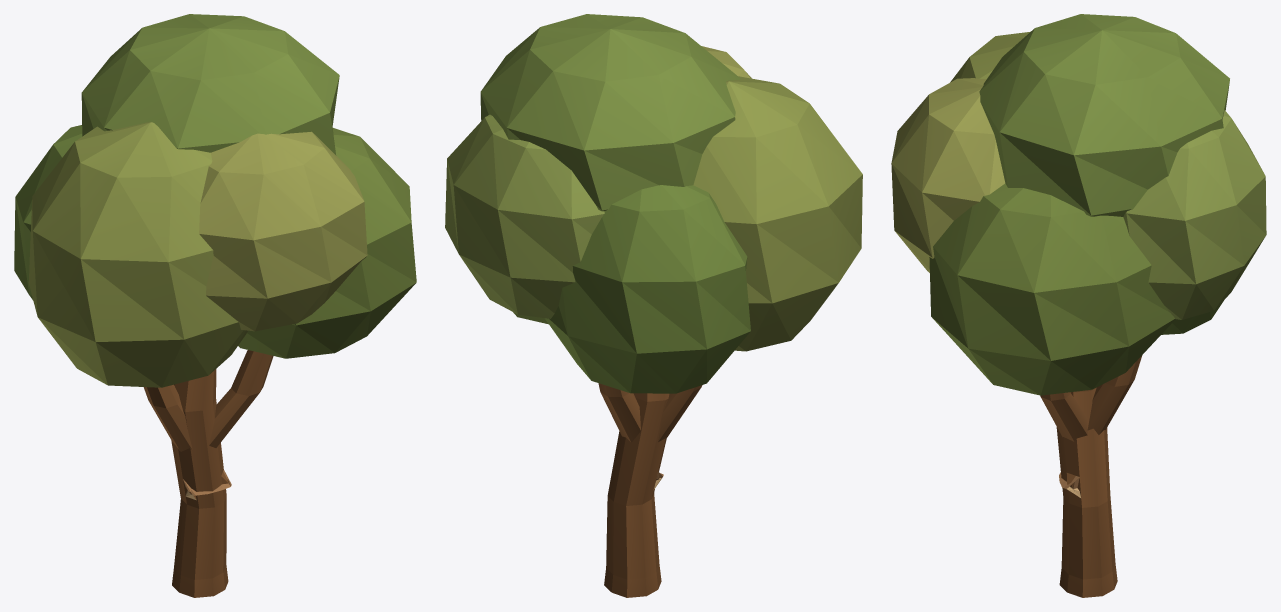
Rendered from OrchardElm.glb.
3 views of the same model, side by side, from view 1: azimuth 30°, elevation 25°; view 2: azimuth 150°, elevation 25°; view 3: azimuth 270°, elevation 25° (orthographic). The views are drawn at different scales.
Parts seen in each view (by area): view 1: Crown, Stump, Sound; view 2: Crown, Stump, Sound; view 3: Crown, Stump, Sound.
Part boxes in pixels (<box>): Crown: <box>14,14,416,474</box>; Stump: <box>172,493,228,597</box>; Sound: <box>175,462,226,505</box>; Crown: <box>445,14,862,469</box>; Stump: <box>604,490,661,597</box>; Sound: <box>608,456,662,502</box>; Crown: <box>891,14,1266,467</box>; Stump: <box>1059,490,1117,597</box>; Sound: <box>1059,454,1109,503</box>.
Size of the model in its own units: 3.13 by 4.49 by 2.71.
